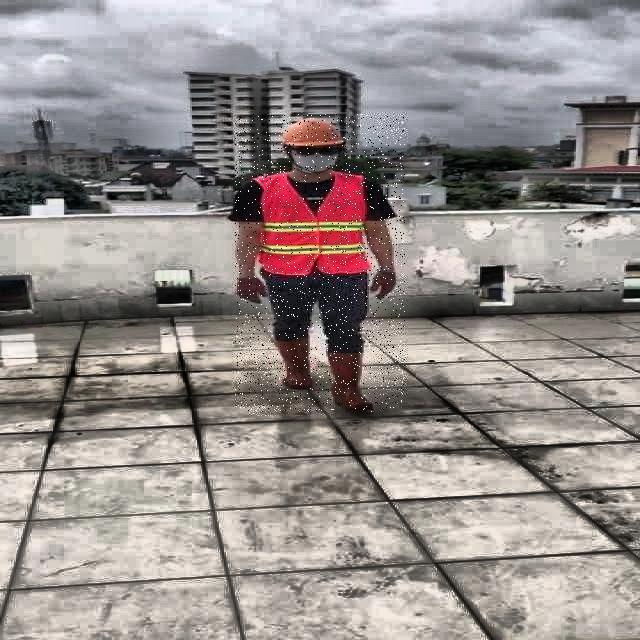safety_helmet: (274, 118, 353, 150)
safety_jacket: (254, 173, 372, 274)
